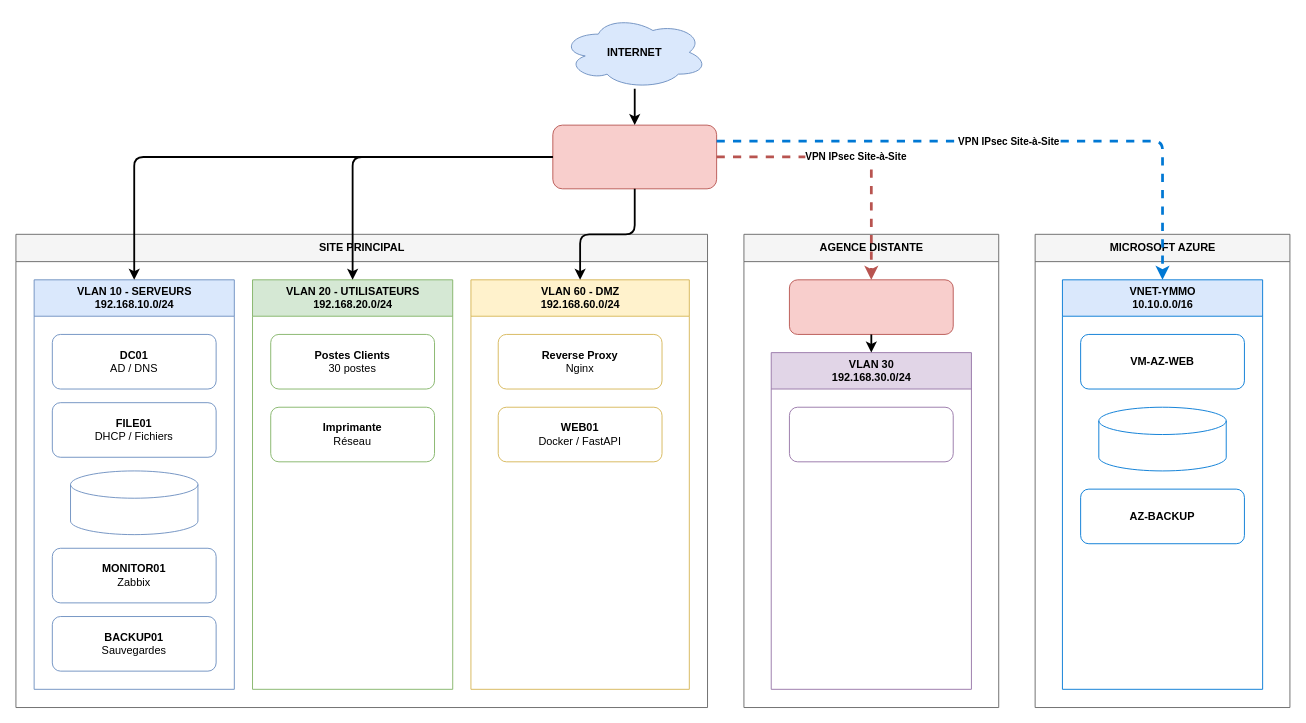
Some shapes in this 1306 by 723 pixel diagram are drawn without their labels. The shapes that lost their labels are listed below. From the top down, each one's centre as x and y in pixels, then its label:
[634,156]: PFSENSE01 Firewall / Routeur / NAT
[871,306]: PFSENSE-AGENCE Firewall / Routeur
[871,434]: Postes Distants 5 PC + Imprimante
[1162,438]: VM-AZ-DB
[134,502]: DB01 PostgreSQL
